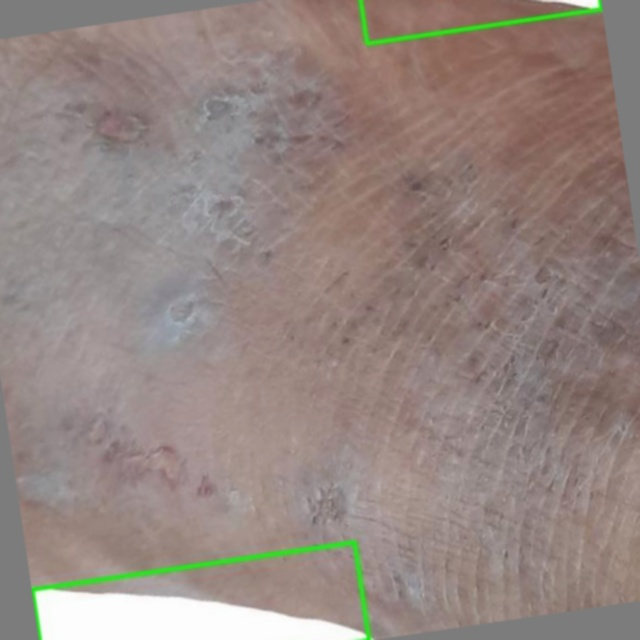Contact Dermatitis: (32, 542, 368, 639)
